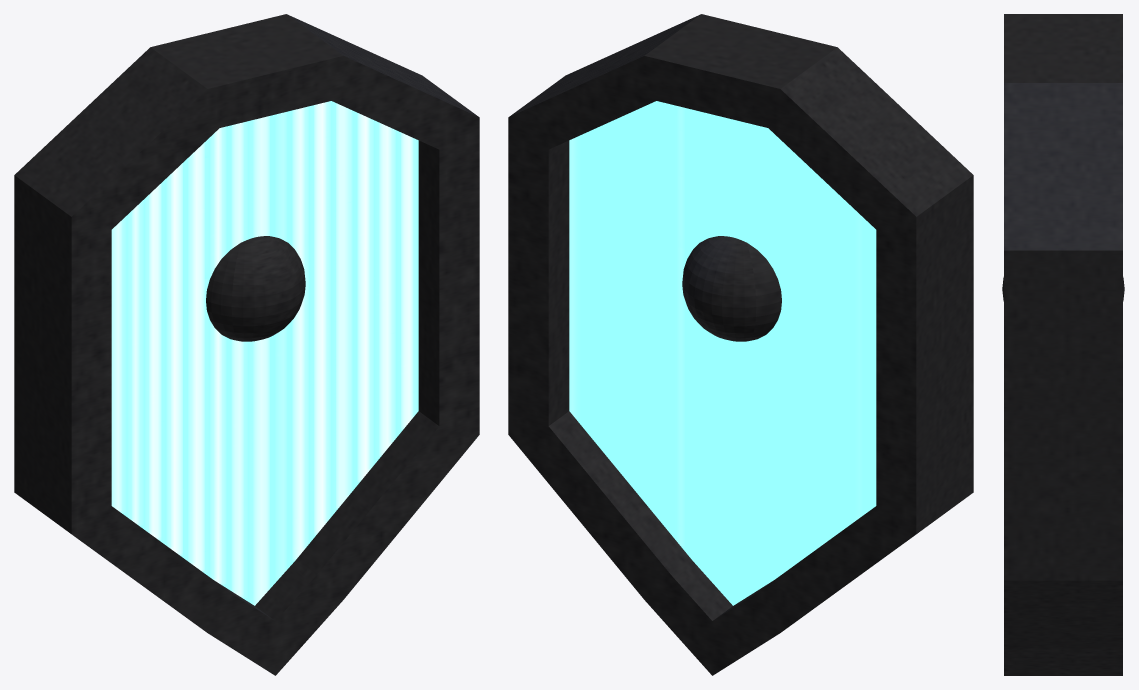
File: ShieldNoBasePowerUp.fbx
3 renders of one model, left to right at view 1: azimuth 30°, elevation 25°; view 2: azimuth 150°, elevation 25°; view 3: azimuth 270°, elevation 25°, orthographic. The views are drawn at different scales.
Visible parts, largest first — view 1: ShieldNoBaseeToExport; view 2: ShieldNoBaseeToExport; view 3: ShieldNoBaseeToExport.
Part boxes in pixels (bbox=[...]): ShieldNoBaseeToExport: bbox=[14, 14, 479, 675]; ShieldNoBaseeToExport: bbox=[508, 14, 973, 675]; ShieldNoBaseeToExport: bbox=[1002, 14, 1124, 675].
Bounding box in the file's own units: 100 × 141 × 25.
